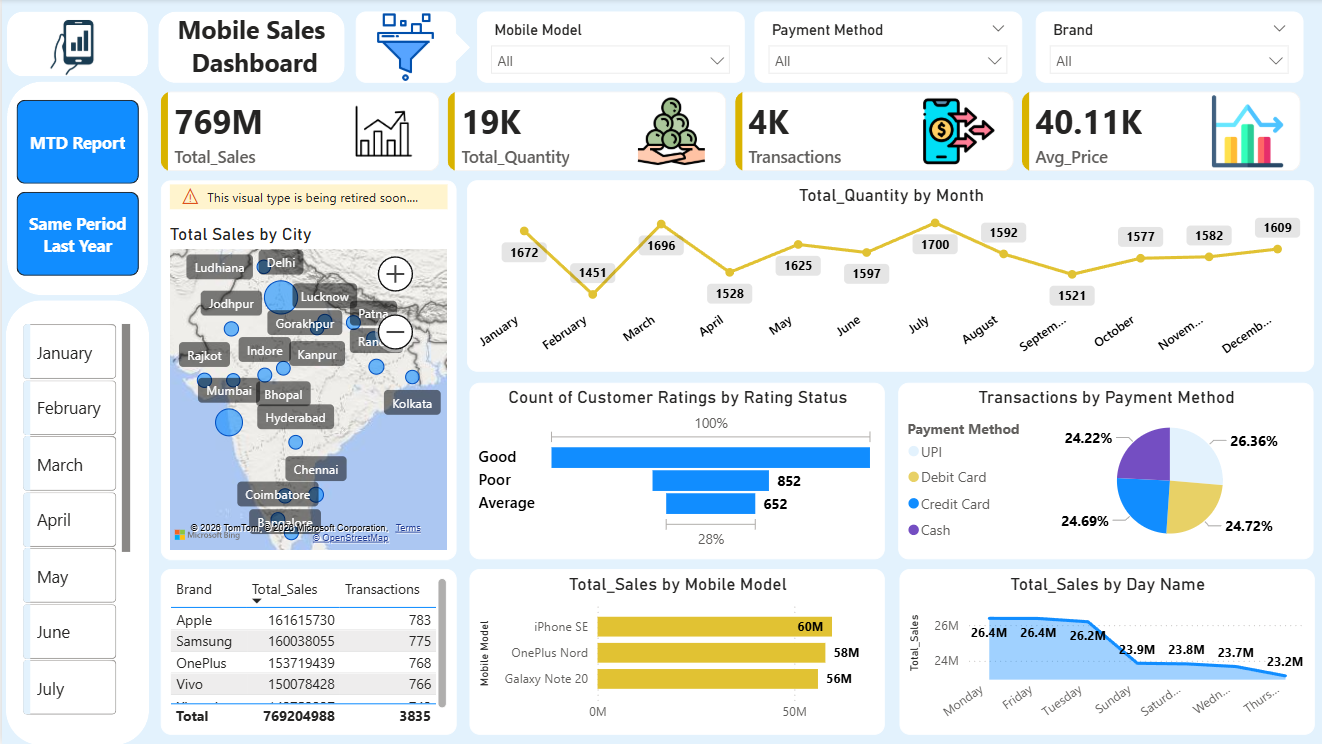

What the dashboard file says about the page in this screenshot:
{"tool":"powerbi","page":{"name":"Dashboard","canvas":[1280,720],"ordinal":0},"visuals":[{"type":"image","box":[341.6,11.5,96.6,69.2],"z":0,"group":"g2"},{"type":"shape","box":[5,12.1,136.3,62.7],"z":0},{"type":"shape","box":[412.2,29.5,38.9,33.2],"z":1000,"group":"g2"},{"type":"shape","box":[5,79.6,136.3,206.3],"z":1000},{"type":"shape","box":[4,291.2,138.4,429.5],"z":2000},{"type":"image","box":[41.9,5.8,62,75],"z":3000},{"type":"advancedSlicerVisual","fields":{"Values":["Custom Calender.Date.Variation.Date Hierarchy.Month"]},"box":[16,308.5,113.9,393.5],"z":4000},{"type":"group","id":"g1","title":"Group 1","box":[141.2,77.2,1125.6,100.1],"z":5000},{"type":"cardVisual","fields":{"Data":["Sales Data.Total_Sales","Sales Data.Total_Quantity","Sales Data.Transactions","Sales Data.Avg_Price"]},"box":[141.2,77.2,1125.6,101],"z":5000,"group":"g1"},{"type":"slicer","fields":{"Values":["Sales Data.Mobile Model"]},"box":[458.4,11.5,258,69.2],"z":6000},{"type":"image","box":[319.3,93.1,97.8,69.3],"z":6000,"group":"g1"},{"type":"slicer","fields":{"Values":["Sales Data.Payment Method"]},"box":[726.3,12.1,258.2,68.8],"z":7000},{"type":"image","box":[597.2,93.1,97.8,69.3],"z":7000,"group":"g1"},{"type":"slicer","fields":{"Values":["Sales Data.Brand"]},"box":[997.7,12.1,258.2,68.8],"z":8000},{"type":"image","box":[875.1,93.1,97.8,69.3],"z":8000,"group":"g1"},{"type":"group","id":"g2","title":"Group 2","box":[341.6,11.5,109.5,69.2],"z":9000},{"type":"image","box":[1152.9,93.1,97.8,69.3],"z":9000,"group":"g1"},{"type":"shape","box":[151.4,11.5,180,69.2],"z":10000},{"type":"textbox","box":[141.3,8.6,198.9,75],"z":11000},{"type":"map","title":"Total Sales by City","fields":{"Category":["Sales Data.City"],"Size":["Sales Data.Total_Sales"]},"box":[152.8,174.4,285.4,366.1],"z":12000},{"type":"lineChart","fields":{"Category":["Custom Calender.Date.Variation.Date Hierarchy.Month","Custom Calender.Date.Variation.Date Hierarchy.Day"],"Y":["Sales Data.Total_Quantity"]},"box":[448.8,174.9,818,184.6],"z":13000},{"type":"funnel","fields":{"Y":["CountNonNull(Sales Data.Customer Ratings)"],"Category":["Sales Data.Rating Status"]},"box":[451.2,370.5,400.7,170.1],"z":14000},{"type":"pieChart","fields":{"Y":["Sales Data.Transactions"],"Category":["Sales Data.Payment Method"]},"box":[864.9,370.5,400.7,170.1],"z":15000},{"type":"clusteredBarChart","fields":{"Y":["Sales Data.Total_Sales"],"Category":["Sales Data.Mobile Model"]},"box":[451.2,550.6,400.7,160],"z":16000},{"type":"areaChart","fields":{"Y":["Sales Data.Total_Sales"],"Category":["Custom Calender.Day Name"]},"box":[866.3,550.6,400.7,160],"z":17000},{"type":"tableEx","fields":{"Values":["Sales Data.Brand","Sales Data.Total_Sales","Sales Data.Transactions"]},"box":[152.8,550.6,285.4,160],"z":18000},{"type":"pageNavigator","box":[12.9,96.6,120,173],"z":19000}]}

Visuals, with their boxes in screenshot pixels (x1, y1, x2, y2), scaled from the page's 1280x720 canvas onto the 1322x744 screenshot:
image: detection(353, 12, 453, 83)
shape: detection(5, 13, 146, 77)
shape: detection(426, 30, 466, 65)
shape: detection(5, 82, 146, 295)
shape: detection(4, 301, 147, 743)
image: detection(43, 6, 107, 83)
advancedSlicerVisual - Custom Calender.Date.Variation.Date Hierarchy.Month: detection(17, 319, 134, 725)
"Group 1" group: detection(146, 80, 1308, 183)
cardVisual - Sales Data.Total_Sales x Sales Data.Total_Quantity: detection(146, 80, 1308, 184)
slicer - Sales Data.Mobile Model: detection(473, 12, 740, 83)
image: detection(330, 96, 431, 168)
slicer - Sales Data.Payment Method: detection(750, 13, 1017, 84)
image: detection(617, 96, 718, 168)
slicer - Sales Data.Brand: detection(1030, 13, 1297, 84)
image: detection(904, 96, 1005, 168)
"Group 2" group: detection(353, 12, 466, 83)
image: detection(1191, 96, 1292, 168)
shape: detection(156, 12, 342, 83)
textbox: detection(146, 9, 351, 86)
"Total Sales by City" map: detection(158, 180, 453, 559)
lineChart - Custom Calender.Date.Variation.Date Hierarchy.Month x Custom Calender.Date.Variation.Date Hierarchy.Day: detection(464, 181, 1308, 371)
funnel - CountNonNull(Sales Data.Customer Ratings) x Sales Data.Rating Status: detection(466, 383, 880, 559)
pieChart - Sales Data.Transactions x Sales Data.Payment Method: detection(893, 383, 1307, 559)
clusteredBarChart - Sales Data.Total_Sales x Sales Data.Mobile Model: detection(466, 569, 880, 734)
areaChart - Sales Data.Total_Sales x Custom Calender.Day Name: detection(895, 569, 1309, 734)
tableEx - Sales Data.Brand x Sales Data.Total_Sales: detection(158, 569, 453, 734)
pageNavigator: detection(13, 100, 137, 279)
